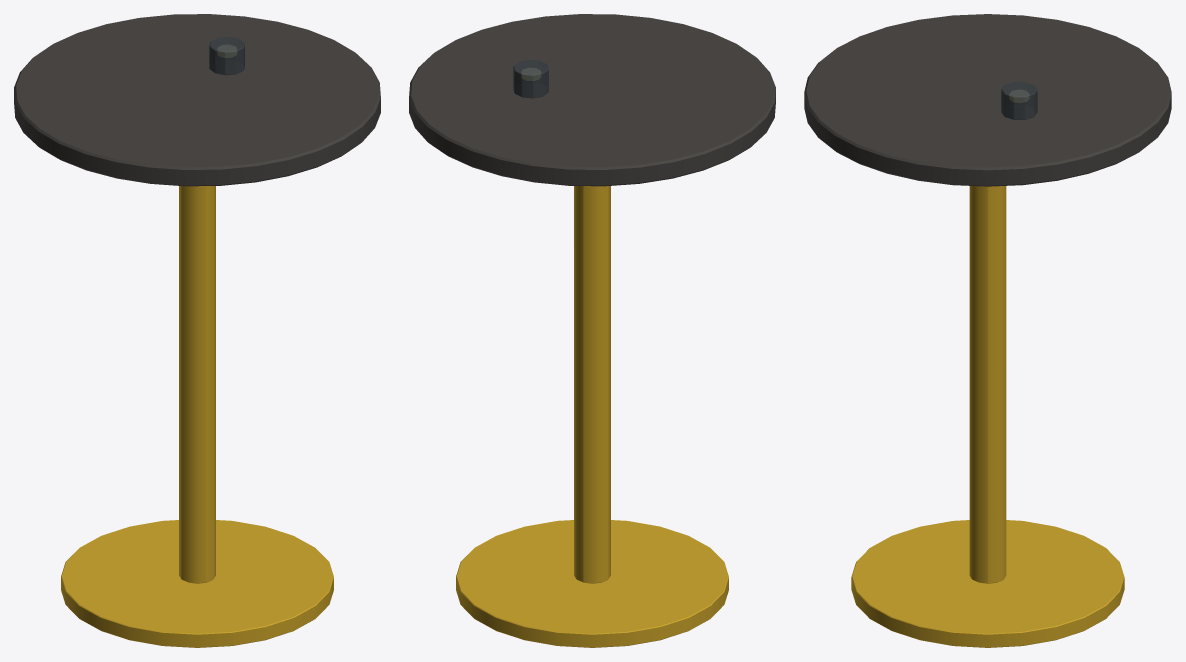
The model's file is prop_ah_high_table.glb.
3 renders of one model, left to right at view 1: azimuth 30°, elevation 25°; view 2: azimuth 150°, elevation 25°; view 3: azimuth 270°, elevation 25°, orthographic.
Parts seen in each view (by area): view 1: Body; view 2: Body; view 3: Body.
Boxes of the visible parts, x1,y1,x2,y2 form: Body: (14,14,380,647); Body: (409,14,775,647); Body: (804,14,1171,647).
Bounding box in the file's own units: 0.7 × 1.1 × 0.7.
